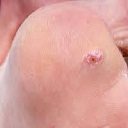Cellulitis: (77, 47, 106, 72)
